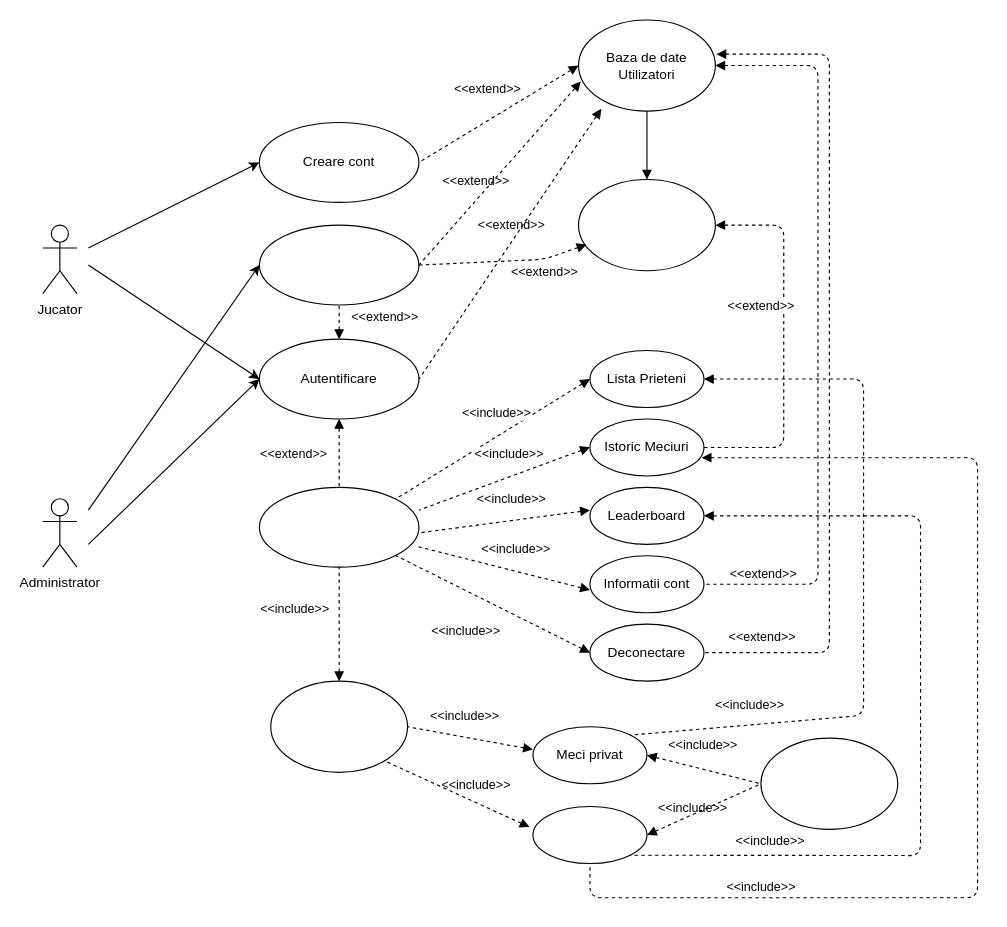
Image size: 1007x927. Some labels were removed from this diagram. The centre of each missing label's shape, as x and y in pixels:
Baza de date meciuri: (x=646, y=224)
Evaluare Rapoarte: (x=338, y=264)
Gameplay: (x=829, y=783)
Matchmaking: (x=339, y=726)
Meci public: (x=589, y=834)
Meniu Principal: (x=338, y=526)
